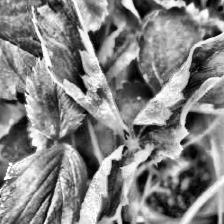Powdery Mildew Leaf: (30, 0, 131, 140), (130, 31, 224, 166), (0, 140, 90, 224), (66, 143, 155, 224)
